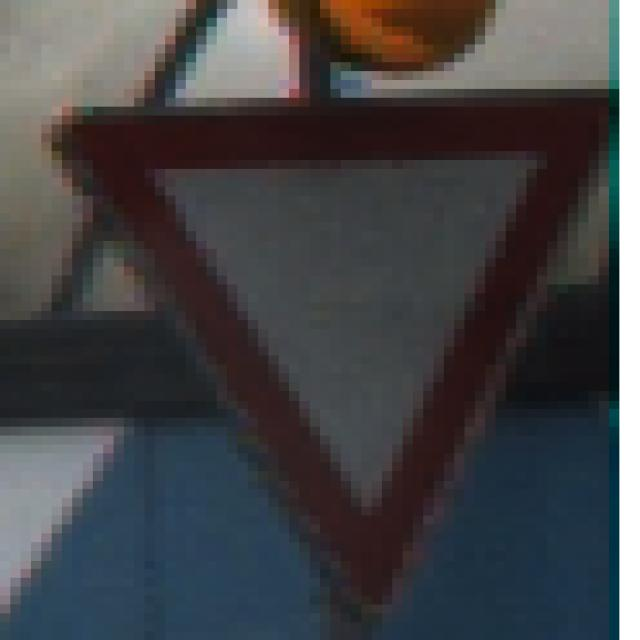Give Way: (63, 63, 610, 588)
